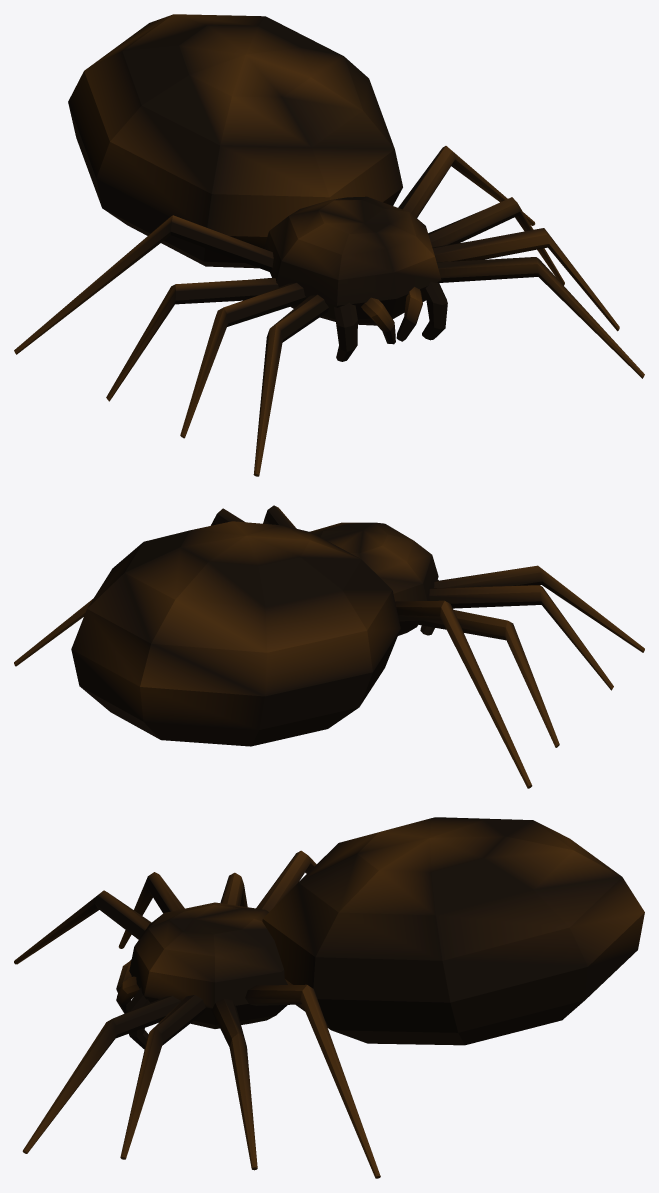
The model's file is AntonioCenarioFase1.fbx_Aranha.fbx.
The picture shows the model from 3 angles, top to bottom: view 1: azimuth 30°, elevation 25°; view 2: azimuth 150°, elevation 25°; view 3: azimuth 270°, elevation 25°; orthographic projection.
Visible parts, largest first — view 1: Aranha; view 2: Aranha; view 3: Aranha.
Boxes of the visible parts, x1,y1,x2,y2 form: Aranha: (14, 14, 644, 476); Aranha: (14, 505, 644, 788); Aranha: (14, 817, 644, 1178).
Size of the model in its own units: 247 by 103 by 259.
